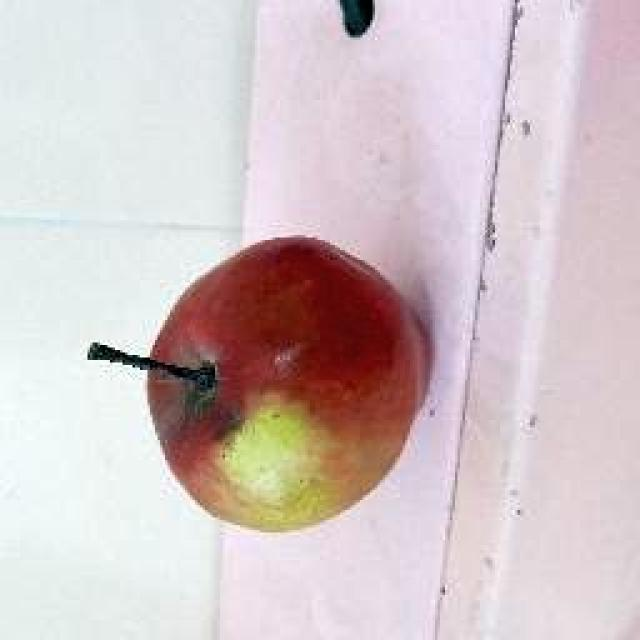Good_Apple: (88, 238, 432, 535)
